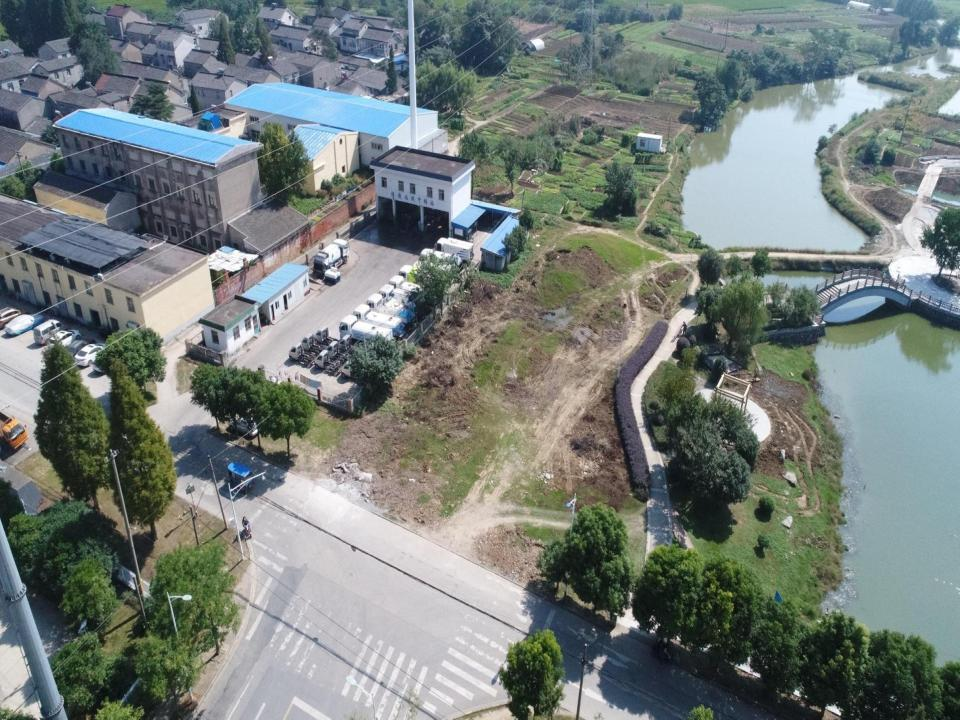car: (92, 338, 121, 373), (74, 341, 110, 367), (4, 313, 44, 336), (47, 328, 81, 352), (228, 415, 262, 438), (62, 338, 90, 359), (0, 306, 22, 331)
truck: (339, 313, 393, 355), (353, 303, 407, 341), (365, 292, 415, 328), (312, 238, 350, 278), (431, 236, 475, 268), (419, 246, 464, 274), (0, 410, 29, 450), (378, 282, 420, 308), (386, 273, 425, 299), (397, 263, 436, 289), (412, 259, 455, 281), (288, 341, 318, 369), (300, 332, 330, 357), (341, 359, 368, 385), (314, 348, 340, 374), (314, 325, 342, 349), (324, 339, 349, 365), (337, 333, 365, 355)
van: (32, 319, 66, 346)
